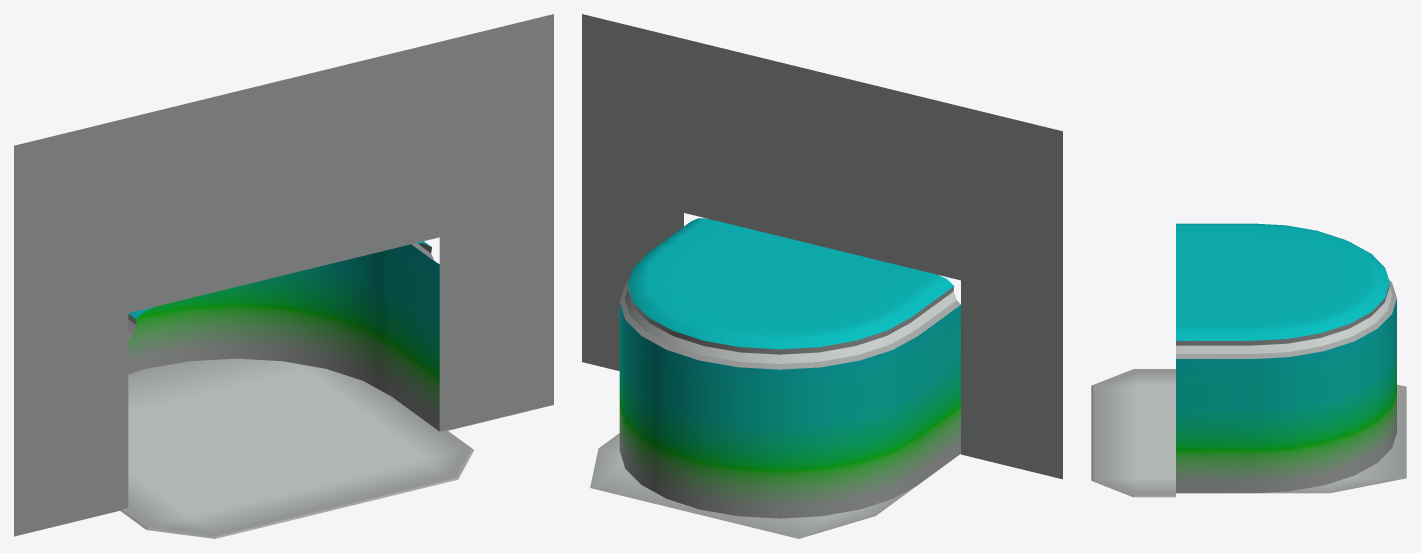
The picture shows the model from 3 angles, left to right: view 1: azimuth 30°, elevation 25°; view 2: azimuth 150°, elevation 25°; view 3: azimuth 270°, elevation 25°; orthographic projection. The views are drawn at different scales.
Visible parts, largest first — view 1: G:\FFXIV-MapTools\exports\u5f1\bg\ex4\04_uvs_u5\fld\u5f1\bgp (×5); view 2: G:\FFXIV-MapTools\exports\u5f1\bg\ex4\04_uvs_u5\fld\u5f1\bgp (×6); view 3: G:\FFXIV-MapTools\exports\u5f1\bg\ex4\04_uvs_u5\fld\u5f1\bgp (×6).
Part boxes in pixels (<box>): G:\FFXIV-MapTools\exports\u5f1\bg\ex4\04_uvs_u5\fld\u5f1\bgp (×5): <box>14,14,553,538</box>; G:\FFXIV-MapTools\exports\u5f1\bg\ex4\04_uvs_u5\fld\u5f1\bgp (×6): <box>582,14,1062,538</box>; G:\FFXIV-MapTools\exports\u5f1\bg\ex4\04_uvs_u5\fld\u5f1\bgp (×6): <box>1091,223,1406,497</box>.
Size of the model in its own units: 26.02 by 18 by 16.4.
